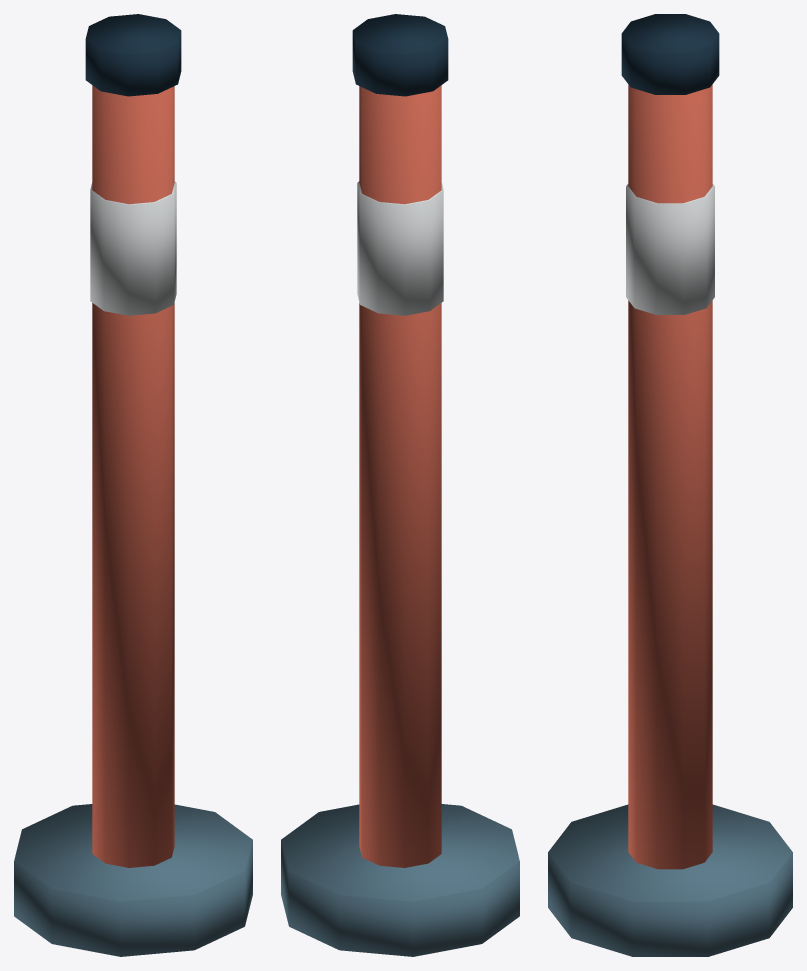
Rendered from rope-post.glb.
3 renders of one model, left to right at view 1: azimuth 30°, elevation 25°; view 2: azimuth 150°, elevation 25°; view 3: azimuth 270°, elevation 25°, orthographic.
Parts seen in each view (by area): view 1: rope_post; view 2: rope_post; view 3: rope_post.
Part boxes in pixels (x1,y1,x2,y2): rope_post: (14, 14, 252, 956); rope_post: (281, 14, 519, 956); rope_post: (548, 14, 792, 956).
Size of the model in its own units: 0.3043 by 1.26 by 0.32.
